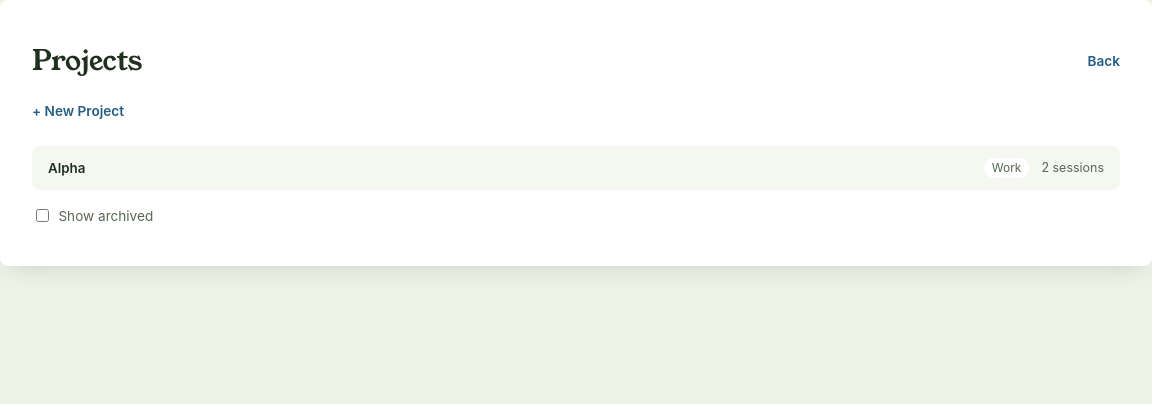
Test: Projects › switches to detail view on row click, showing name, category, and only that project's sessions
Click the button "Alpha Work 2 sessions". click: (67, 168)
box: [32,146,1120,190]
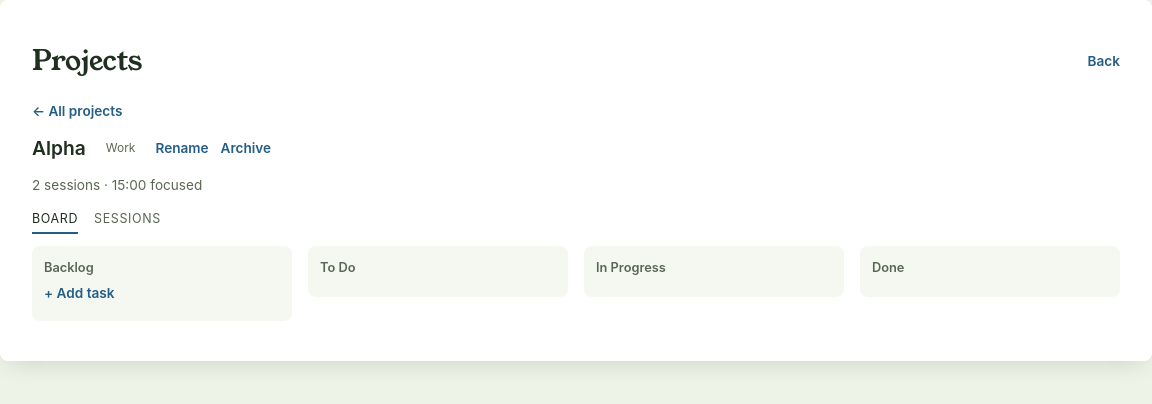
Expected: the heading "Alpha" is shown, [32,134,86,163]
Expected: the text "Work" is shown, [98,137,143,160]
Click the tab "Sessions". click: (127, 222)
box: [94,211,161,234]
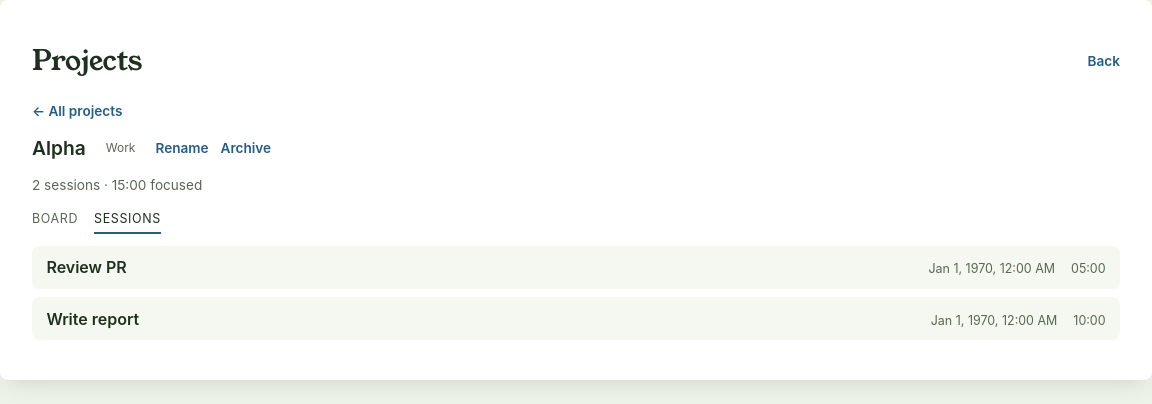
Expected: the text "Write report" is shown, [46,309,139,329]
Expected: the text "Review PR" is shown, [46,257,127,277]
